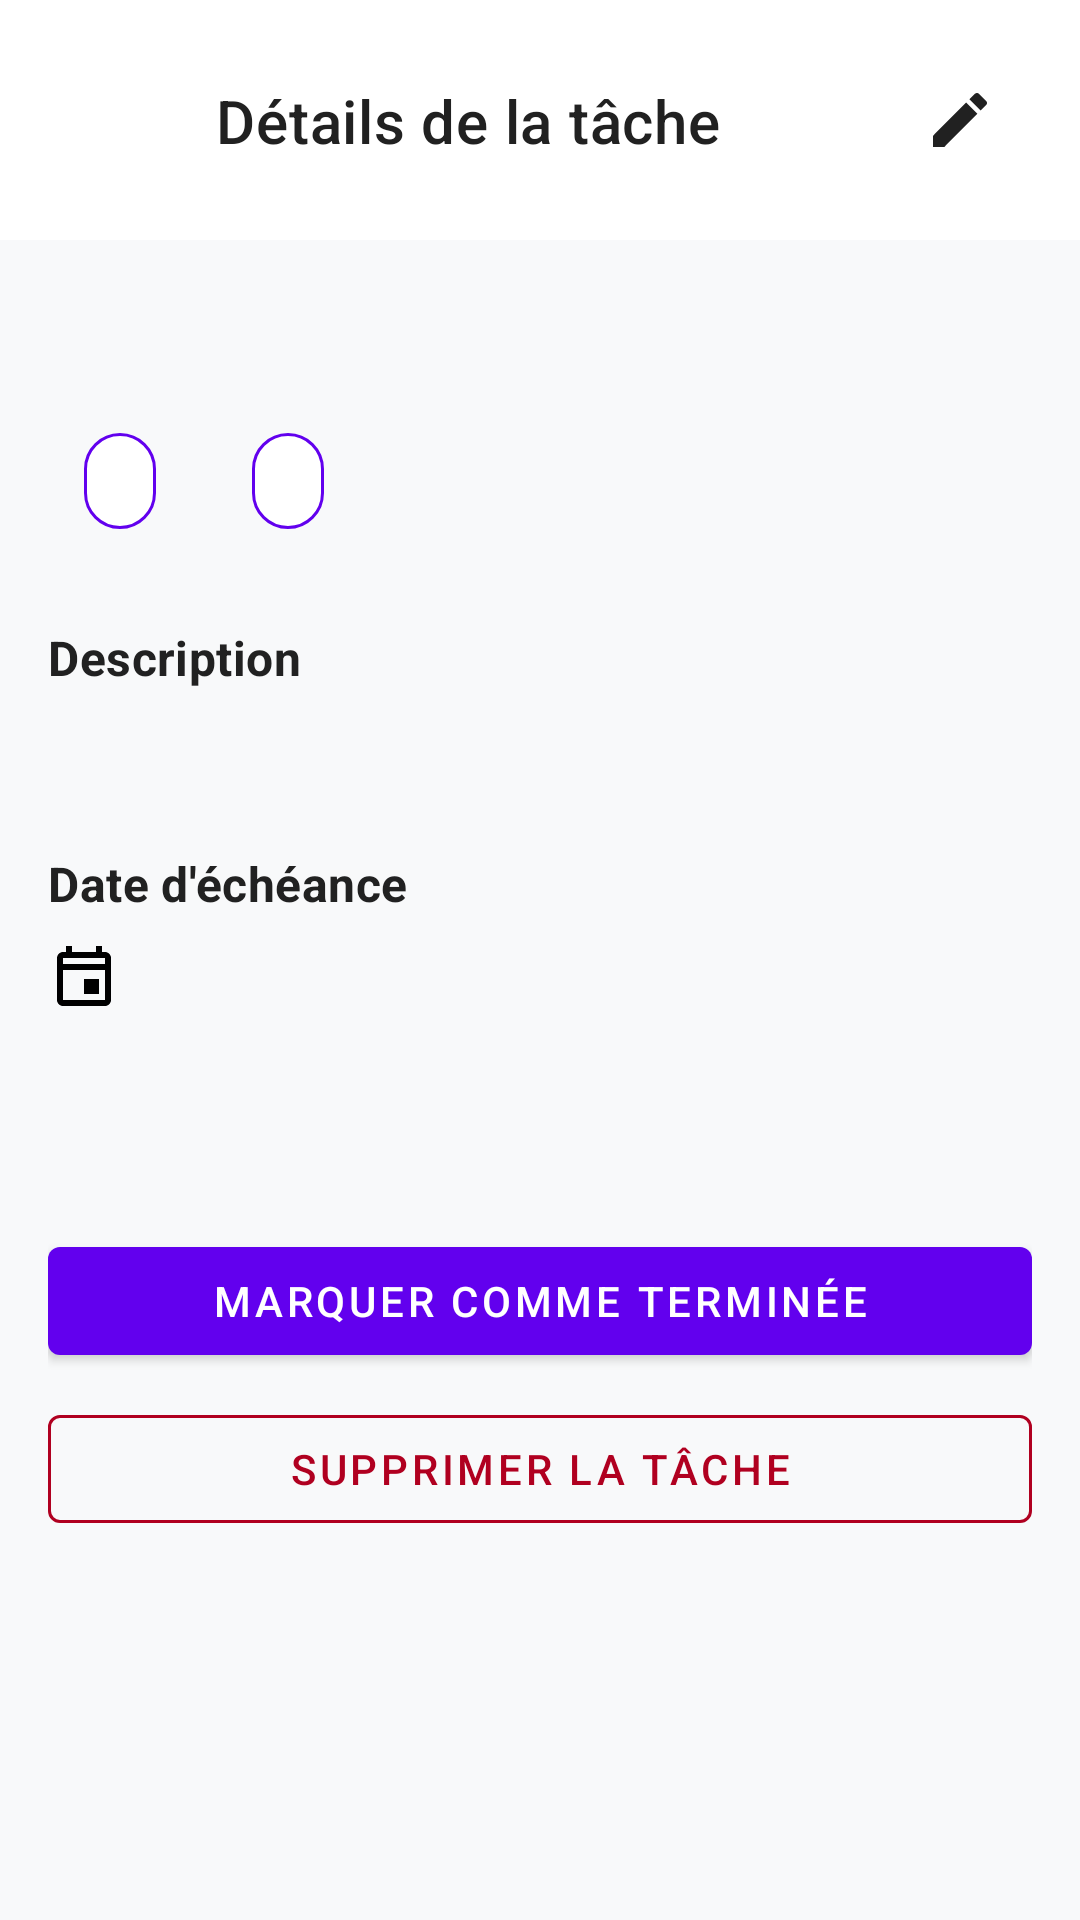

Where icons sit on this 1080w x 1920h app screen, as (x1, y1, x2, y2):
Modifier la tâche: (933, 93, 987, 147)
